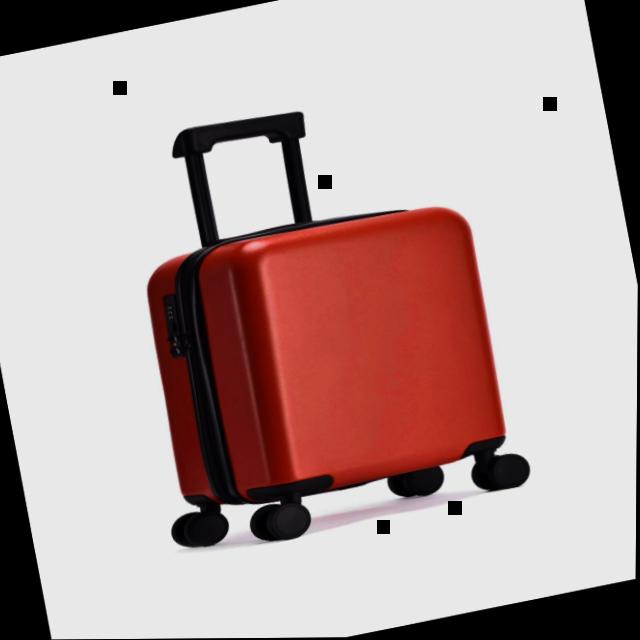luggage: (107, 176, 540, 573)
